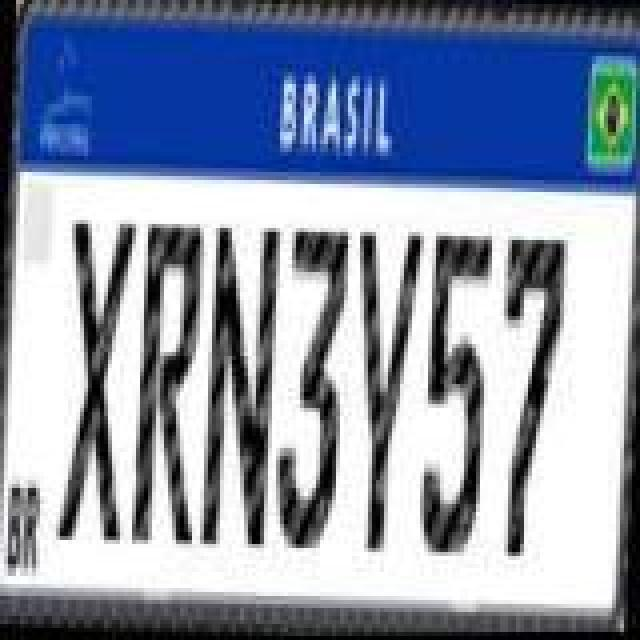3: (270, 222, 354, 554)
5: (416, 228, 496, 560)
7: (488, 232, 568, 564)
N: (198, 224, 282, 556)
R: (128, 216, 208, 548)
X: (54, 214, 138, 550)
Y: (342, 232, 426, 560)
